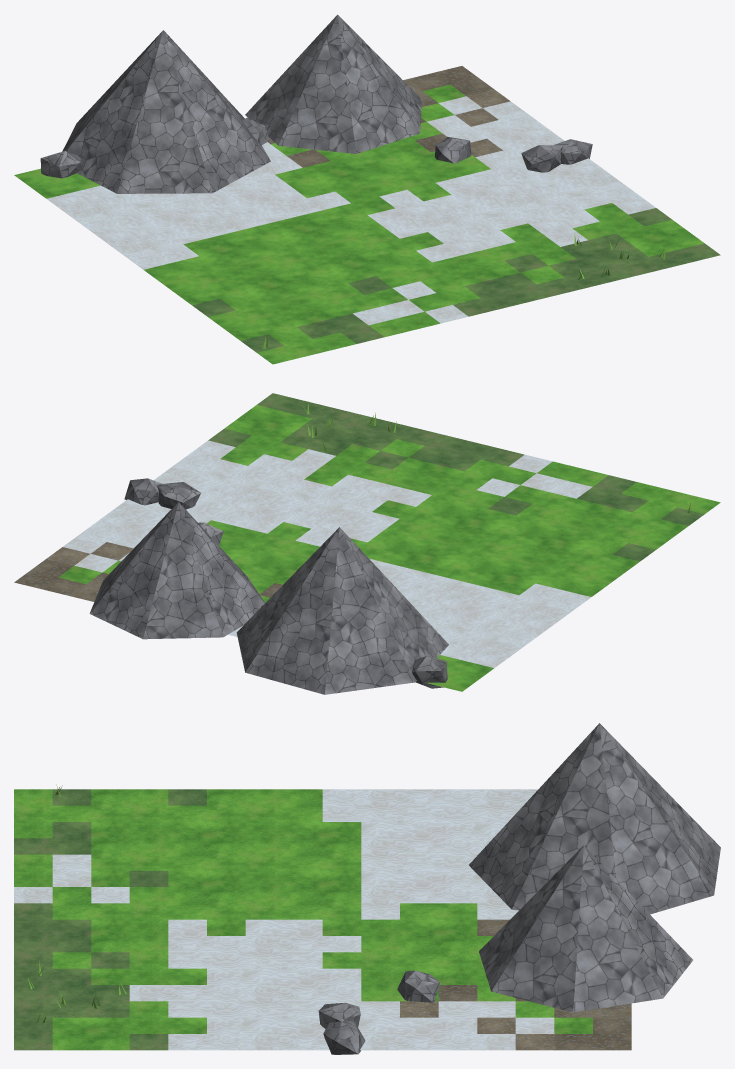
The model's file is chunk_5_1.glb.
The picture shows the model from 3 angles, top to bottom: view 1: azimuth 30°, elevation 25°; view 2: azimuth 150°, elevation 25°; view 3: azimuth 270°, elevation 25°; orthographic projection. The views are drawn at different scales.
Parts seen in each view (by area): view 1: chunk_5_1; view 2: chunk_5_1; view 3: chunk_5_1.
Boxes of the visible parts, x1,y1,x2,y2 form: chunk_5_1: (14, 14, 720, 364); chunk_5_1: (14, 393, 720, 694); chunk_5_1: (14, 723, 720, 1054).
Size of the model in its own units: 16.26 by 4.66 by 18.32.
Materials: 7 (6 with a texture image).
